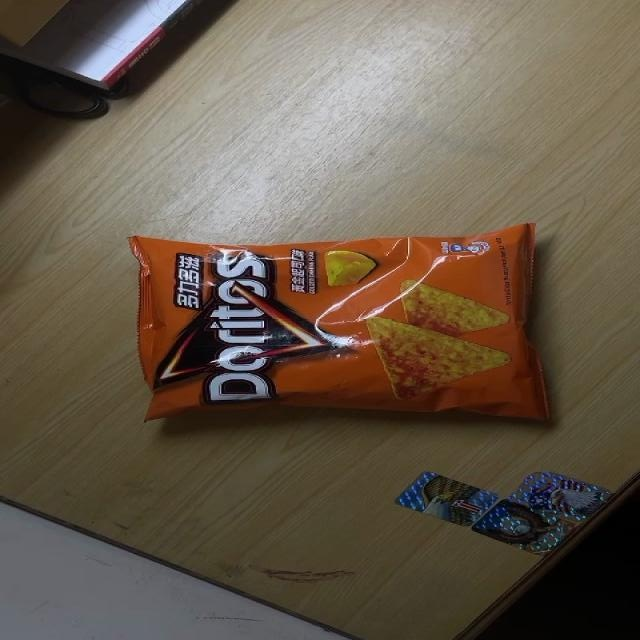Doritos: (127, 220, 556, 424)
